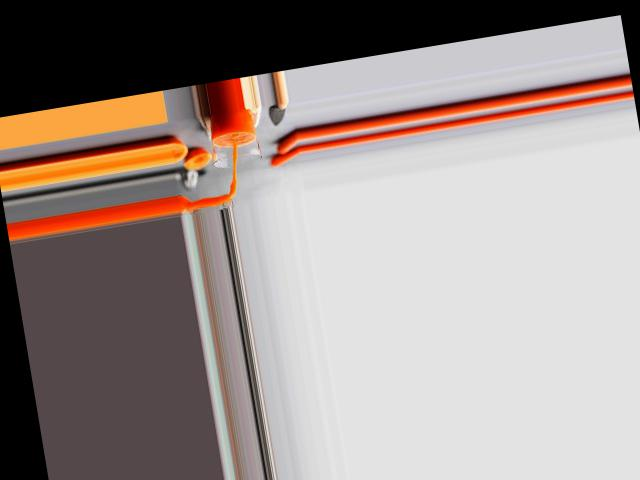carrot: (264, 128, 301, 165)
